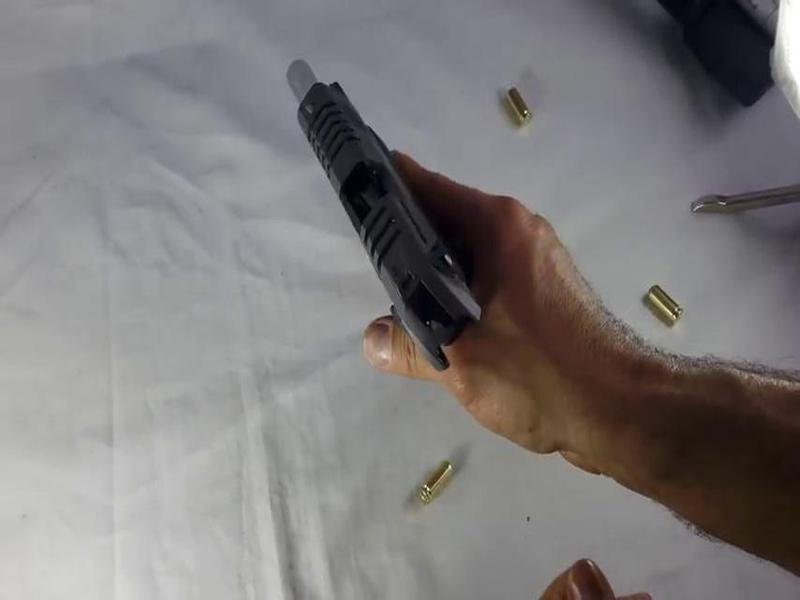Pistola: (268, 17, 473, 385)
